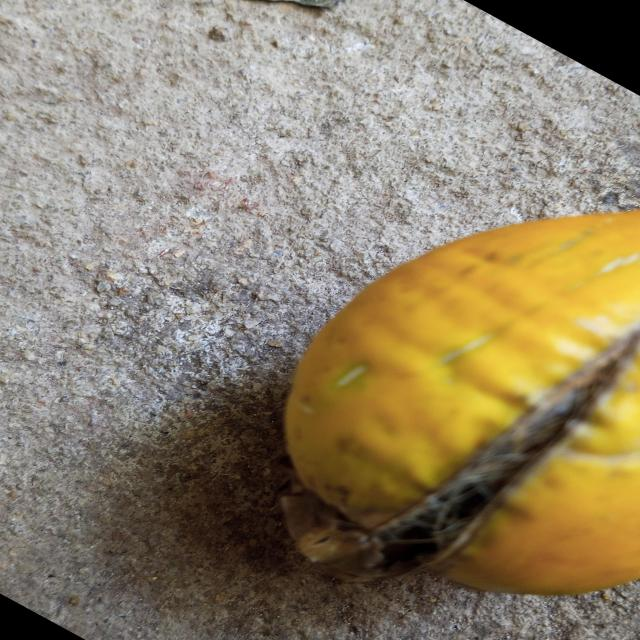damaged: (281, 210, 640, 595)
